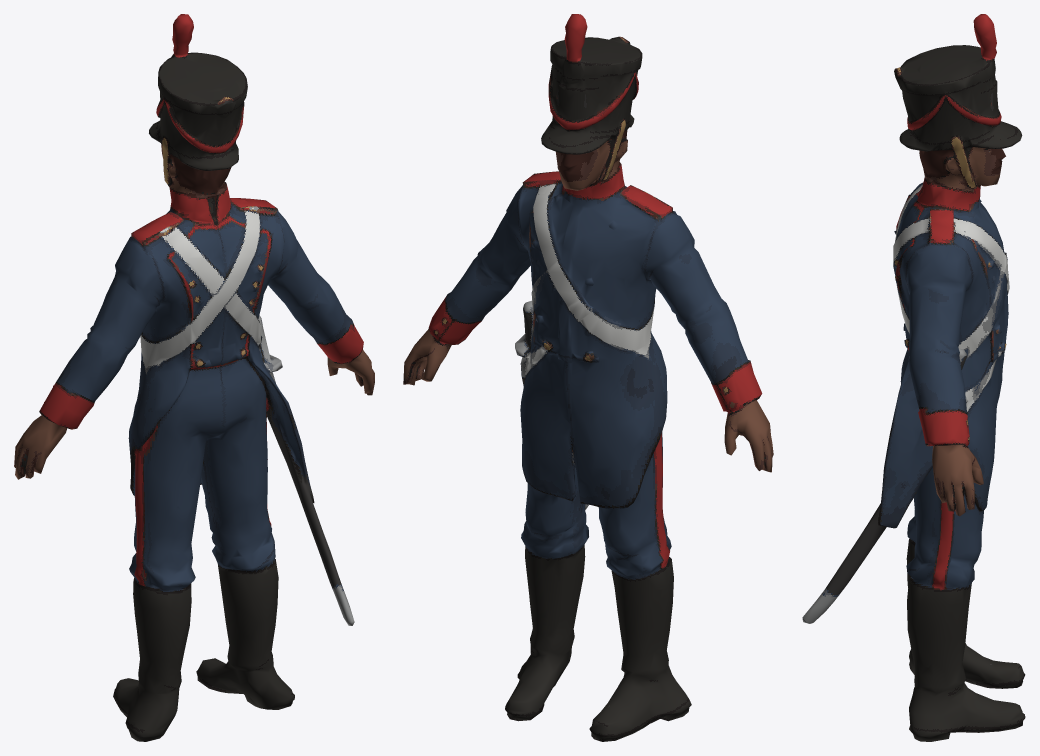
The model's file is cabral.glb.
The picture shows the model from 3 angles, left to right: view 1: azimuth 30°, elevation 25°; view 2: azimuth 150°, elevation 25°; view 3: azimuth 270°, elevation 25°; orthographic projection. The views are drawn at different scales.
Visible parts, largest first — view 1: tripo_node_07e0ec95-c4ef-4ef8-b794-1f5310dea7f5; view 2: tripo_node_07e0ec95-c4ef-4ef8-b794-1f5310dea7f5; view 3: tripo_node_07e0ec95-c4ef-4ef8-b794-1f5310dea7f5.
Part boxes in pixels (left/top/right/bottom): tripo_node_07e0ec95-c4ef-4ef8-b794-1f5310dea7f5: left=14, top=14, right=374, bottom=741; tripo_node_07e0ec95-c4ef-4ef8-b794-1f5310dea7f5: left=403, top=14, right=773, bottom=741; tripo_node_07e0ec95-c4ef-4ef8-b794-1f5310dea7f5: left=802, top=14, right=1025, bottom=741.
Bounding box in the file's own units: 0.5435 × 1 × 0.2937.
Materials: 1 (1 with a texture image).
